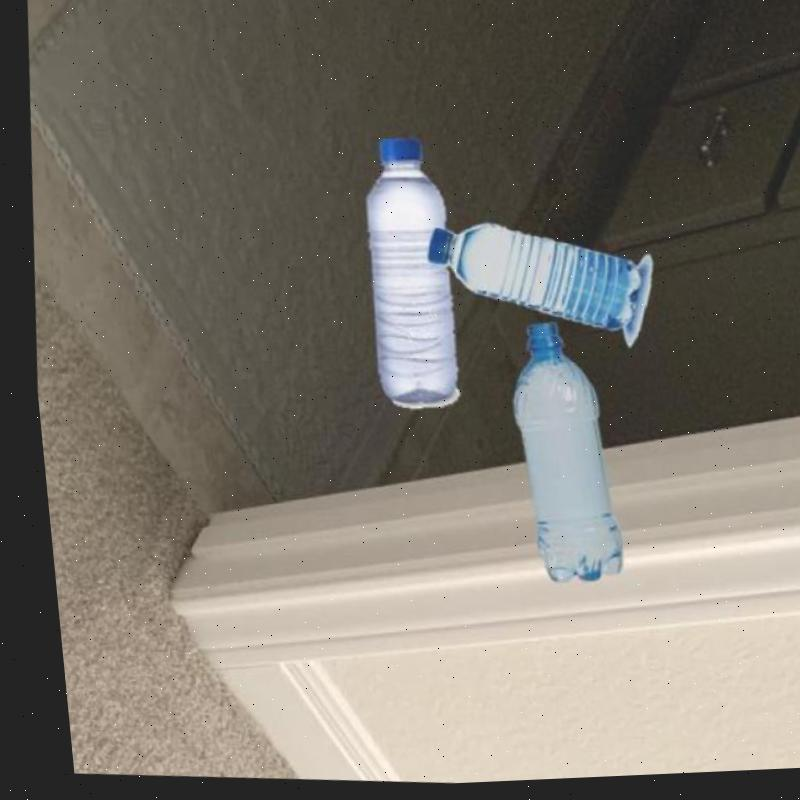botella: (485, 319, 628, 592), (341, 136, 468, 409), (414, 214, 641, 345)
